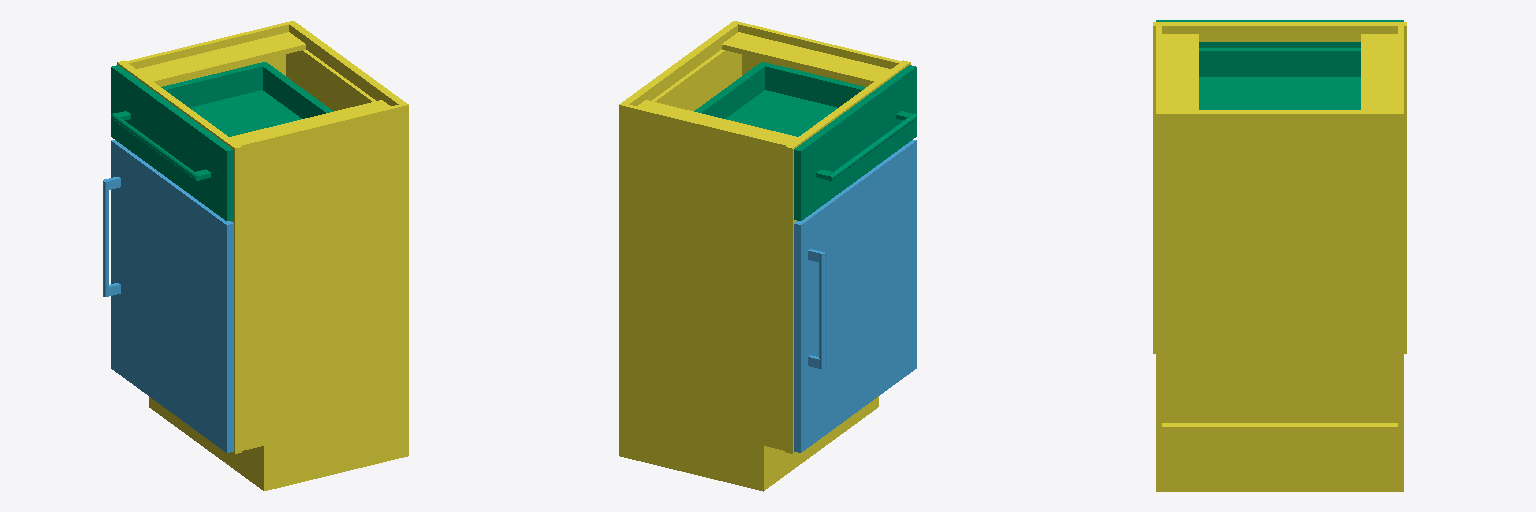
The robot description file, URDF, robot "partnet_1700d057c9e0c88cc59350d819542ec7":
<?xml version="1.0" ?>
<robot name="partnet_1700d057c9e0c88cc59350d819542ec7">
	<link name="base"/>
	<link name="link_0">
		<visual name="cabinet_door_surface-13">
			<origin xyz="-0.44320079610951385 0.6041650176048279 -0.37219106137052144"/>
			<geometry>
				<mesh filename="textured_objs/original-40.obj"/>
			</geometry>
		</visual>
		<visual name="handle-14">
			<origin xyz="-0.44320079610951385 0.6041650176048279 -0.37219106137052144"/>
			<geometry>
				<mesh filename="textured_objs/original-42.obj"/>
			</geometry>
		</visual>
		<visual name="handle-14">
			<origin xyz="-0.44320079610951385 0.6041650176048279 -0.37219106137052144"/>
			<geometry>
				<mesh filename="textured_objs/original-44.obj"/>
			</geometry>
		</visual>
		<visual name="handle-14">
			<origin xyz="-0.44320079610951385 0.6041650176048279 -0.37219106137052144"/>
			<geometry>
				<mesh filename="textured_objs/original-43.obj"/>
			</geometry>
		</visual>
		<collision>
			<origin xyz="-0.44320079610951385 0.6041650176048279 -0.37219106137052144"/>
			<geometry>
				<mesh filename="textured_objs/original-40.obj"/>
			</geometry>
		</collision>
		<collision>
			<origin xyz="-0.44320079610951385 0.6041650176048279 -0.37219106137052144"/>
			<geometry>
				<mesh filename="textured_objs/original-42.obj"/>
			</geometry>
		</collision>
		<collision>
			<origin xyz="-0.44320079610951385 0.6041650176048279 -0.37219106137052144"/>
			<geometry>
				<mesh filename="textured_objs/original-44.obj"/>
			</geometry>
		</collision>
		<collision>
			<origin xyz="-0.44320079610951385 0.6041650176048279 -0.37219106137052144"/>
			<geometry>
				<mesh filename="textured_objs/original-43.obj"/>
			</geometry>
		</collision>
	</link>
	<joint name="joint_0" type="revolute">
		<origin xyz="0.44320079610951385 -0.6041650176048279 0.37219106137052144"/>
		<axis xyz="0 1 0"/>
		<child link="link_0"/>
		<parent link="link_2"/>
		<limit lower="-0.0" upper="1.5707963267948966"/>
	</joint>
	<link name="link_1">
		<visual name="drawer_front-8">
			<origin xyz="-0.0008915650625103341 -0.5238750210034603 0.3910250067710881"/>
			<geometry>
				<mesh filename="textured_objs/original-34.obj"/>
			</geometry>
		</visual>
		<visual name="drawer_front-8">
			<origin xyz="-0.0008915650625103341 -0.5238750210034603 0.3910250067710881"/>
			<geometry>
				<mesh filename="textured_objs/original-26.obj"/>
			</geometry>
		</visual>
		<visual name="drawer_side-9">
			<origin xyz="-0.0008915650625103341 -0.5238750210034603 0.3910250067710881"/>
			<geometry>
				<mesh filename="textured_objs/original-25.obj"/>
			</geometry>
		</visual>
		<visual name="drawer_side-10">
			<origin xyz="-0.0008915650625103341 -0.5238750210034603 0.3910250067710881"/>
			<geometry>
				<mesh filename="textured_objs/original-30.obj"/>
			</geometry>
		</visual>
		<visual name="drawer_back-11">
			<origin xyz="-0.0008915650625103341 -0.5238750210034603 0.3910250067710881"/>
			<geometry>
				<mesh filename="textured_objs/original-31.obj"/>
			</geometry>
		</visual>
		<visual name="drawer_bottom-12">
			<origin xyz="-0.0008915650625103341 -0.5238750210034603 0.3910250067710881"/>
			<geometry>
				<mesh filename="textured_objs/original-29.obj"/>
			</geometry>
		</visual>
		<visual name="drawer_bottom-12">
			<origin xyz="-0.0008915650625103341 -0.5238750210034603 0.3910250067710881"/>
			<geometry>
				<mesh filename="textured_objs/original-28.obj"/>
			</geometry>
		</visual>
		<visual name="handle-7">
			<origin xyz="-0.0008915650625103341 -0.5238750210034603 0.3910250067710881"/>
			<geometry>
				<mesh filename="textured_objs/original-36.obj"/>
			</geometry>
		</visual>
		<visual name="handle-7">
			<origin xyz="-0.0008915650625103341 -0.5238750210034603 0.3910250067710881"/>
			<geometry>
				<mesh filename="textured_objs/original-37.obj"/>
			</geometry>
		</visual>
		<visual name="handle-7">
			<origin xyz="-0.0008915650625103341 -0.5238750210034603 0.3910250067710881"/>
			<geometry>
				<mesh filename="textured_objs/original-38.obj"/>
			</geometry>
		</visual>
		<visual name="other_leaf-34">
			<origin xyz="-0.0008915650625103341 -0.5238750210034603 0.3910250067710881"/>
			<geometry>
				<mesh filename="textured_objs/original-32.obj"/>
			</geometry>
		</visual>
		<collision>
			<origin xyz="-0.0008915650625103341 -0.5238750210034603 0.3910250067710881"/>
			<geometry>
				<mesh filename="textured_objs/original-34.obj"/>
			</geometry>
		</collision>
		<collision>
			<origin xyz="-0.0008915650625103341 -0.5238750210034603 0.3910250067710881"/>
			<geometry>
				<mesh filename="textured_objs/original-26.obj"/>
			</geometry>
		</collision>
		<collision>
			<origin xyz="-0.0008915650625103341 -0.5238750210034603 0.3910250067710881"/>
			<geometry>
				<mesh filename="textured_objs/original-25.obj"/>
			</geometry>
		</collision>
		<collision>
			<origin xyz="-0.0008915650625103341 -0.5238750210034603 0.3910250067710881"/>
			<geometry>
				<mesh filename="textured_objs/original-30.obj"/>
			</geometry>
		</collision>
		<collision>
			<origin xyz="-0.0008915650625103341 -0.5238750210034603 0.3910250067710881"/>
			<geometry>
				<mesh filename="textured_objs/original-31.obj"/>
			</geometry>
		</collision>
		<collision>
			<origin xyz="-0.0008915650625103341 -0.5238750210034603 0.3910250067710881"/>
			<geometry>
				<mesh filename="textured_objs/original-29.obj"/>
			</geometry>
		</collision>
		<collision>
			<origin xyz="-0.0008915650625103341 -0.5238750210034603 0.3910250067710881"/>
			<geometry>
				<mesh filename="textured_objs/original-28.obj"/>
			</geometry>
		</collision>
		<collision>
			<origin xyz="-0.0008915650625103341 -0.5238750210034603 0.3910250067710881"/>
			<geometry>
				<mesh filename="textured_objs/original-36.obj"/>
			</geometry>
		</collision>
		<collision>
			<origin xyz="-0.0008915650625103341 -0.5238750210034603 0.3910250067710881"/>
			<geometry>
				<mesh filename="textured_objs/original-37.obj"/>
			</geometry>
		</collision>
		<collision>
			<origin xyz="-0.0008915650625103341 -0.5238750210034603 0.3910250067710881"/>
			<geometry>
				<mesh filename="textured_objs/original-38.obj"/>
			</geometry>
		</collision>
		<collision>
			<origin xyz="-0.0008915650625103341 -0.5238750210034603 0.3910250067710881"/>
			<geometry>
				<mesh filename="textured_objs/original-32.obj"/>
			</geometry>
		</collision>
	</link>
	<joint name="joint_1" type="prismatic">
		<origin xyz="0.0008915650625103341 0.5238750210034603 -0.3910250067710881"/>
		<axis xyz="0 0 1"/>
		<child link="link_1"/>
		<parent link="link_2"/>
		<limit lower="0" upper="0.52"/>
	</joint>
	<link name="link_2">
		<visual name="shelf-24">
			<origin xyz="0 0 0"/>
			<geometry>
				<mesh filename="textured_objs/original-2.obj"/>
			</geometry>
		</visual>
		<visual name="vertical_side_panel-20">
			<origin xyz="0 0 0"/>
			<geometry>
				<mesh filename="textured_objs/original-12.obj"/>
			</geometry>
		</visual>
		<visual name="vertical_side_panel-20">
			<origin xyz="0 0 0"/>
			<geometry>
				<mesh filename="textured_objs/original-11.obj"/>
			</geometry>
		</visual>
		<visual name="vertical_side_panel-21">
			<origin xyz="0 0 0"/>
			<geometry>
				<mesh filename="textured_objs/original-16.obj"/>
			</geometry>
		</visual>
		<visual name="vertical_side_panel-21">
			<origin xyz="0 0 0"/>
			<geometry>
				<mesh filename="textured_objs/original-15.obj"/>
			</geometry>
		</visual>
		<visual name="back_panel-22">
			<origin xyz="0 0 0"/>
			<geometry>
				<mesh filename="textured_objs/original-6.obj"/>
			</geometry>
		</visual>
		<visual name="bottom_panel-23">
			<origin xyz="0 0 0"/>
			<geometry>
				<mesh filename="textured_objs/original-3.obj"/>
			</geometry>
		</visual>
		<visual name="frame_vertical_bar-25">
			<origin xyz="0 0 0"/>
			<geometry>
				<mesh filename="textured_objs/original-8.obj"/>
			</geometry>
		</visual>
		<visual name="frame_vertical_bar-26">
			<origin xyz="0 0 0"/>
			<geometry>
				<mesh filename="textured_objs/original-4.obj"/>
			</geometry>
		</visual>
		<visual name="frame_horizontal_bar-27">
			<origin xyz="0 0 0"/>
			<geometry>
				<mesh filename="textured_objs/original-9.obj"/>
			</geometry>
		</visual>
		<visual name="frame_horizontal_bar-28">
			<origin xyz="0 0 0"/>
			<geometry>
				<mesh filename="textured_objs/original-5.obj"/>
			</geometry>
		</visual>
		<visual name="frame_horizontal_bar-29">
			<origin xyz="0 0 0"/>
			<geometry>
				<mesh filename="textured_objs/original-22.obj"/>
			</geometry>
		</visual>
		<visual name="frame_horizontal_bar-30">
			<origin xyz="0 0 0"/>
			<geometry>
				<mesh filename="textured_objs/original-21.obj"/>
			</geometry>
		</visual>
		<visual name="frame_horizontal_bar-31">
			<origin xyz="0 0 0"/>
			<geometry>
				<mesh filename="textured_objs/original-7.obj"/>
			</geometry>
		</visual>
		<visual name="frame_horizontal_bar-32">
			<origin xyz="0 0 0"/>
			<geometry>
				<mesh filename="textured_objs/original-18.obj"/>
			</geometry>
		</visual>
		<visual name="other_leaf-36">
			<origin xyz="0 0 0"/>
			<geometry>
				<mesh filename="textured_objs/original-45.obj"/>
			</geometry>
		</visual>
		<visual name="base_side_panel-16">
			<origin xyz="0 0 0"/>
			<geometry>
				<mesh filename="textured_objs/original-17.obj"/>
			</geometry>
		</visual>
		<visual name="base_side_panel-17">
			<origin xyz="0 0 0"/>
			<geometry>
				<mesh filename="textured_objs/original-19.obj"/>
			</geometry>
		</visual>
		<visual name="base_side_panel-18">
			<origin xyz="0 0 0"/>
			<geometry>
				<mesh filename="textured_objs/original-13.obj"/>
			</geometry>
		</visual>
		<visual name="base_side_panel-19">
			<origin xyz="0 0 0"/>
			<geometry>
				<mesh filename="textured_objs/original-20.obj"/>
			</geometry>
		</visual>
		<collision>
			<origin xyz="0 0 0"/>
			<geometry>
				<mesh filename="textured_objs/original-2.obj"/>
			</geometry>
		</collision>
		<collision>
			<origin xyz="0 0 0"/>
			<geometry>
				<mesh filename="textured_objs/original-12.obj"/>
			</geometry>
		</collision>
		<collision>
			<origin xyz="0 0 0"/>
			<geometry>
				<mesh filename="textured_objs/original-11.obj"/>
			</geometry>
		</collision>
		<collision>
			<origin xyz="0 0 0"/>
			<geometry>
				<mesh filename="textured_objs/original-16.obj"/>
			</geometry>
		</collision>
		<collision>
			<origin xyz="0 0 0"/>
			<geometry>
				<mesh filename="textured_objs/original-15.obj"/>
			</geometry>
		</collision>
		<collision>
			<origin xyz="0 0 0"/>
			<geometry>
				<mesh filename="textured_objs/original-6.obj"/>
			</geometry>
		</collision>
		<collision>
			<origin xyz="0 0 0"/>
			<geometry>
				<mesh filename="textured_objs/original-3.obj"/>
			</geometry>
		</collision>
		<collision>
			<origin xyz="0 0 0"/>
			<geometry>
				<mesh filename="textured_objs/original-8.obj"/>
			</geometry>
		</collision>
		<collision>
			<origin xyz="0 0 0"/>
			<geometry>
				<mesh filename="textured_objs/original-4.obj"/>
			</geometry>
		</collision>
		<collision>
			<origin xyz="0 0 0"/>
			<geometry>
				<mesh filename="textured_objs/original-9.obj"/>
			</geometry>
		</collision>
		<collision>
			<origin xyz="0 0 0"/>
			<geometry>
				<mesh filename="textured_objs/original-5.obj"/>
			</geometry>
		</collision>
		<collision>
			<origin xyz="0 0 0"/>
			<geometry>
				<mesh filename="textured_objs/original-22.obj"/>
			</geometry>
		</collision>
		<collision>
			<origin xyz="0 0 0"/>
			<geometry>
				<mesh filename="textured_objs/original-21.obj"/>
			</geometry>
		</collision>
		<collision>
			<origin xyz="0 0 0"/>
			<geometry>
				<mesh filename="textured_objs/original-7.obj"/>
			</geometry>
		</collision>
		<collision>
			<origin xyz="0 0 0"/>
			<geometry>
				<mesh filename="textured_objs/original-18.obj"/>
			</geometry>
		</collision>
		<collision>
			<origin xyz="0 0 0"/>
			<geometry>
				<mesh filename="textured_objs/original-45.obj"/>
			</geometry>
		</collision>
		<collision>
			<origin xyz="0 0 0"/>
			<geometry>
				<mesh filename="textured_objs/original-17.obj"/>
			</geometry>
		</collision>
		<collision>
			<origin xyz="0 0 0"/>
			<geometry>
				<mesh filename="textured_objs/original-19.obj"/>
			</geometry>
		</collision>
		<collision>
			<origin xyz="0 0 0"/>
			<geometry>
				<mesh filename="textured_objs/original-13.obj"/>
			</geometry>
		</collision>
		<collision>
			<origin xyz="0 0 0"/>
			<geometry>
				<mesh filename="textured_objs/original-20.obj"/>
			</geometry>
		</collision>
	</link>
	<joint name="joint_2" type="fixed">
		<origin rpy="1.570796326794897 0 -1.570796326794897" xyz="0 0 0"/>
		<child link="link_2"/>
		<parent link="base"/>
	</joint>
</robot>

--- Facts derived from the render (not from the file) ---
3 views of the same robot in one strip: view 1: azimuth 30°, elevation 25°; view 2: azimuth 150°, elevation 25°; view 3: azimuth 270°, elevation 25° (orthographic).
Robot: partnet_1700d057c9e0c88cc59350d819542ec7 — 4 links, 3 joints (1 revolute, 1 prismatic, 1 fixed); root link base; default pose: all joints at 0.
Visible links, largest first — view 1: link_2, link_0, link_1; view 2: link_2, link_0, link_1; view 3: link_2, link_1.
Boxes of the visible links, <box> form: link_2: <box>117,21,408,490</box>; link_0: <box>103,140,233,452</box>; link_1: <box>111,62,333,220</box>; link_2: <box>619,21,910,491</box>; link_0: <box>794,140,916,452</box>; link_1: <box>694,62,916,220</box>; link_2: <box>1153,22,1406,491</box>; link_1: <box>1156,20,1403,109</box>.
Size in the robot's own frame: 0.9027 by 0.9304 by 1.53 metres.
35 mesh visuals loaded from 35 distinct referenced files (35 OBJ).
